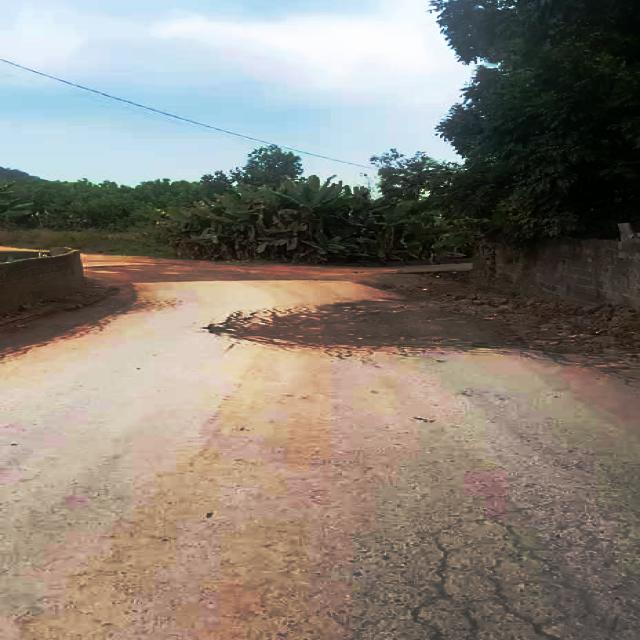pothole: (215, 298, 524, 352)
